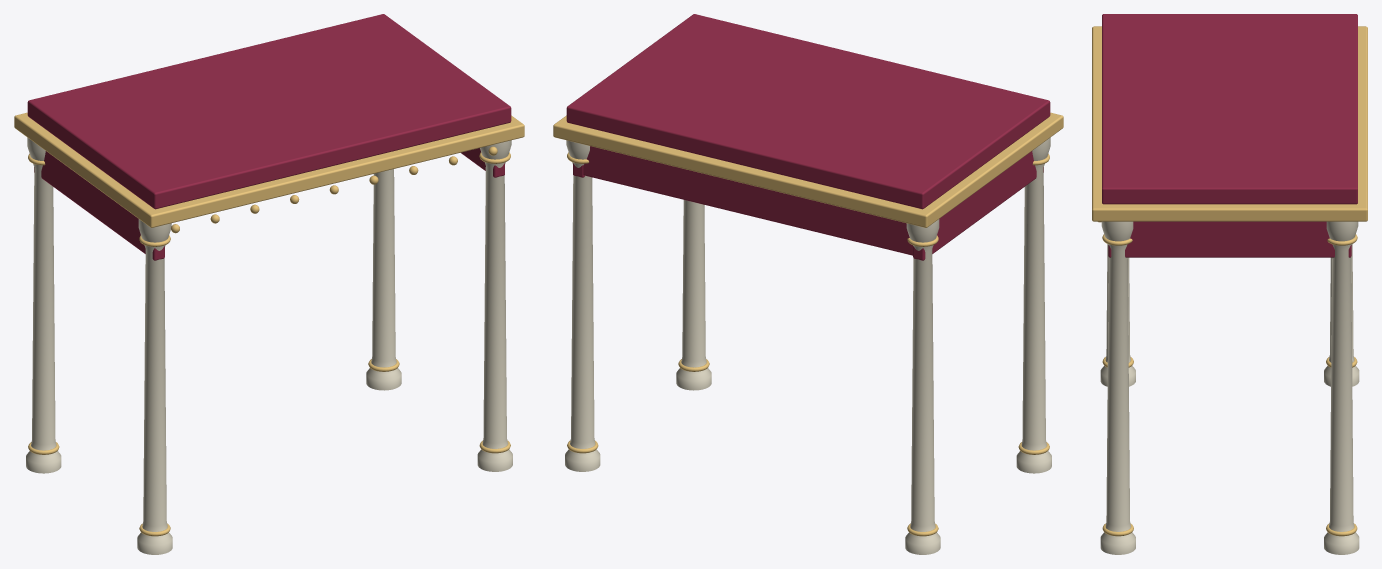
File: royal-court-and-throne-palace-ceremonial-canopy-bea3ca9f__29382.glb
3 views of the same model, side by side, from view 1: azimuth 30°, elevation 25°; view 2: azimuth 150°, elevation 25°; view 3: azimuth 270°, elevation 25° (orthographic).
Parts seen in each view (by area): view 1: ceremonial-canopy; view 2: ceremonial-canopy; view 3: ceremonial-canopy.
Part boxes in pixels (x1=…): ceremonial-canopy: x1=14, y1=14, x2=524, y2=554; ceremonial-canopy: x1=553, y1=14, x2=1063, y2=554; ceremonial-canopy: x1=1092, y1=14, x2=1367, y2=554.
Bounding box in the file's own units: 3.3 × 3.05 × 2.1.
